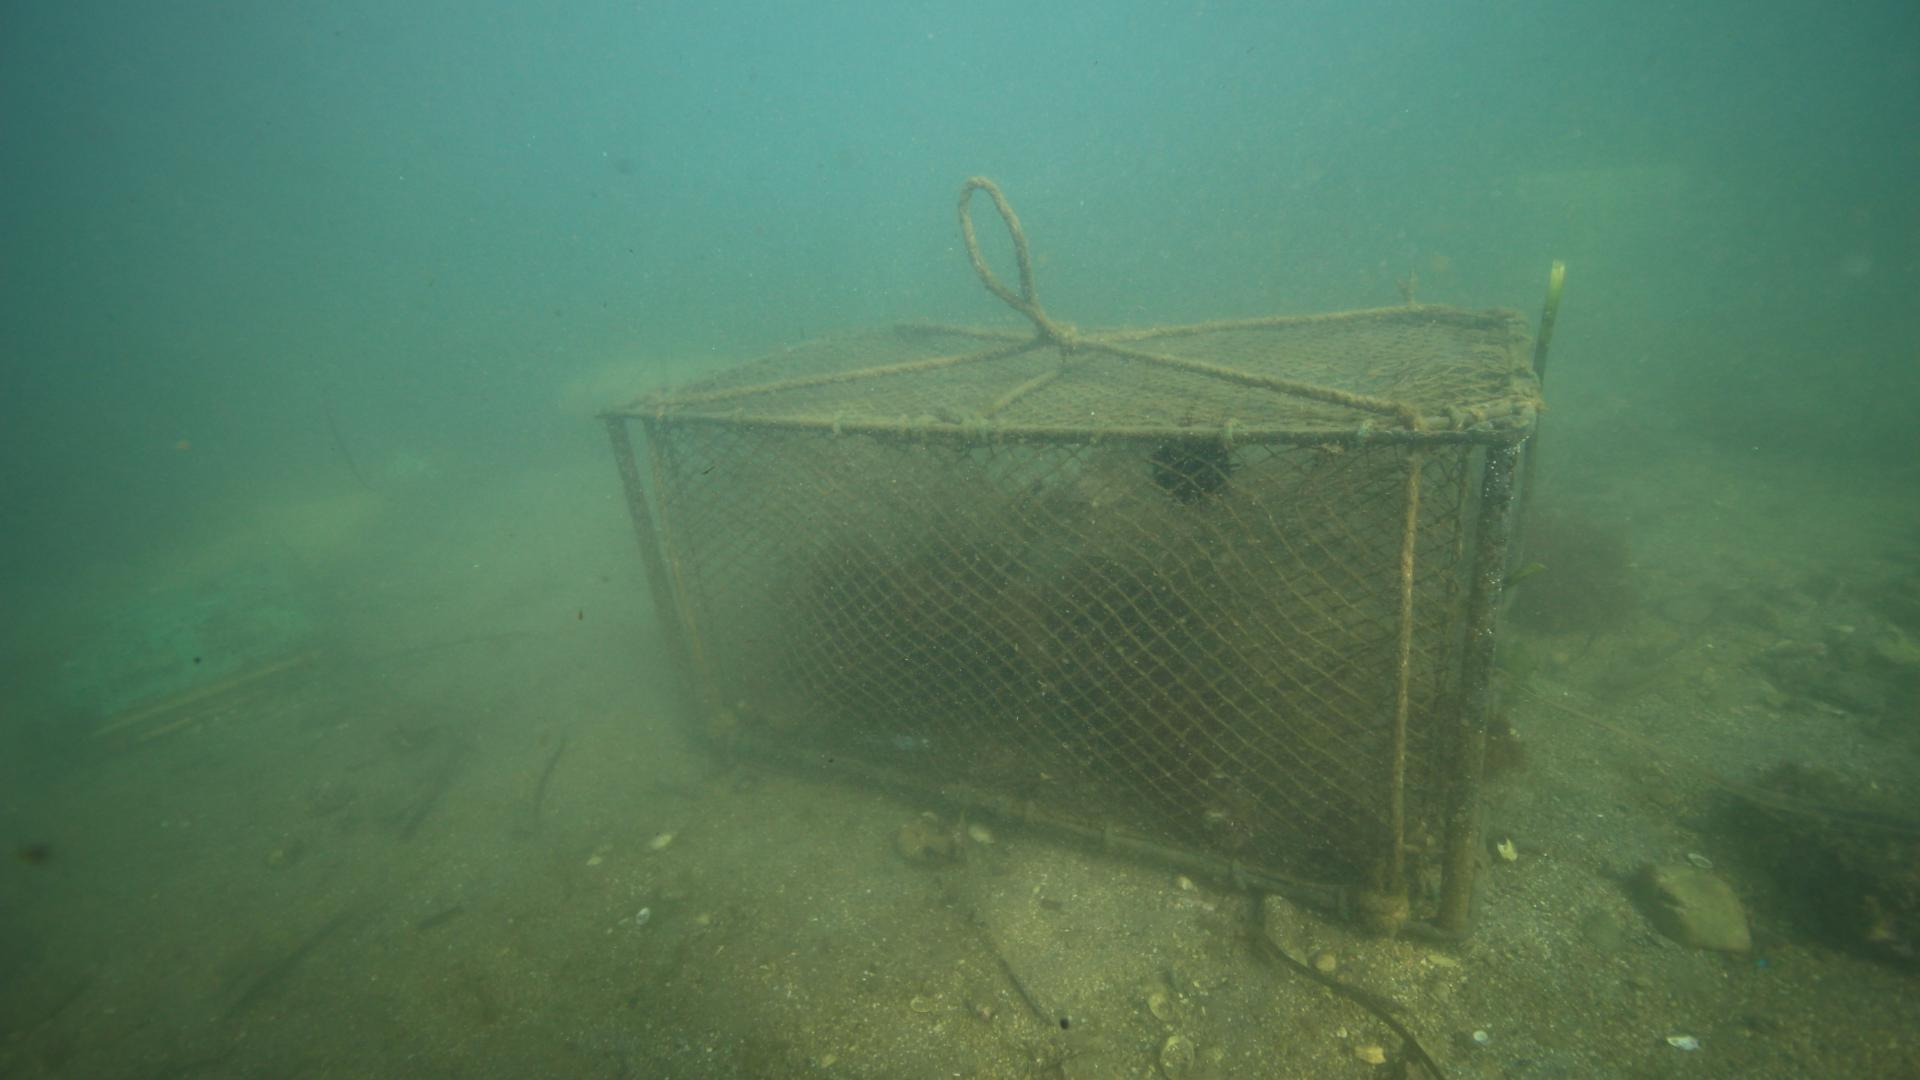bundle of ropes: (951, 169, 1102, 332)
rectangular fish trap: (589, 295, 1552, 947)
